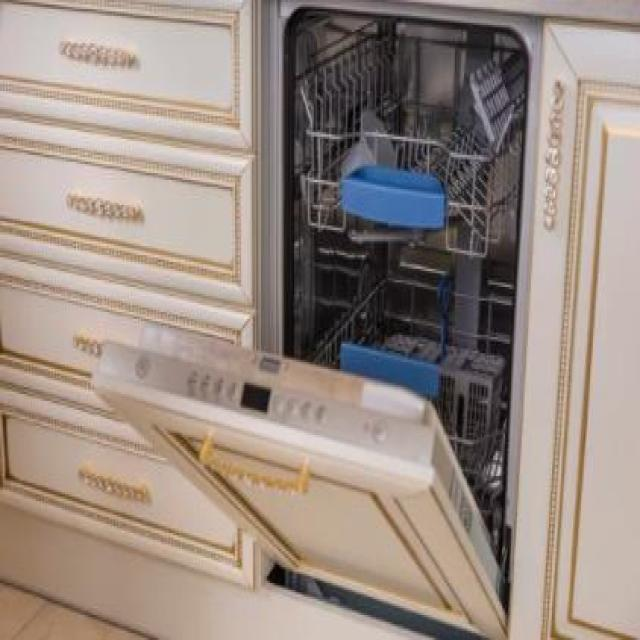dishwasher: (86, 4, 548, 640)
